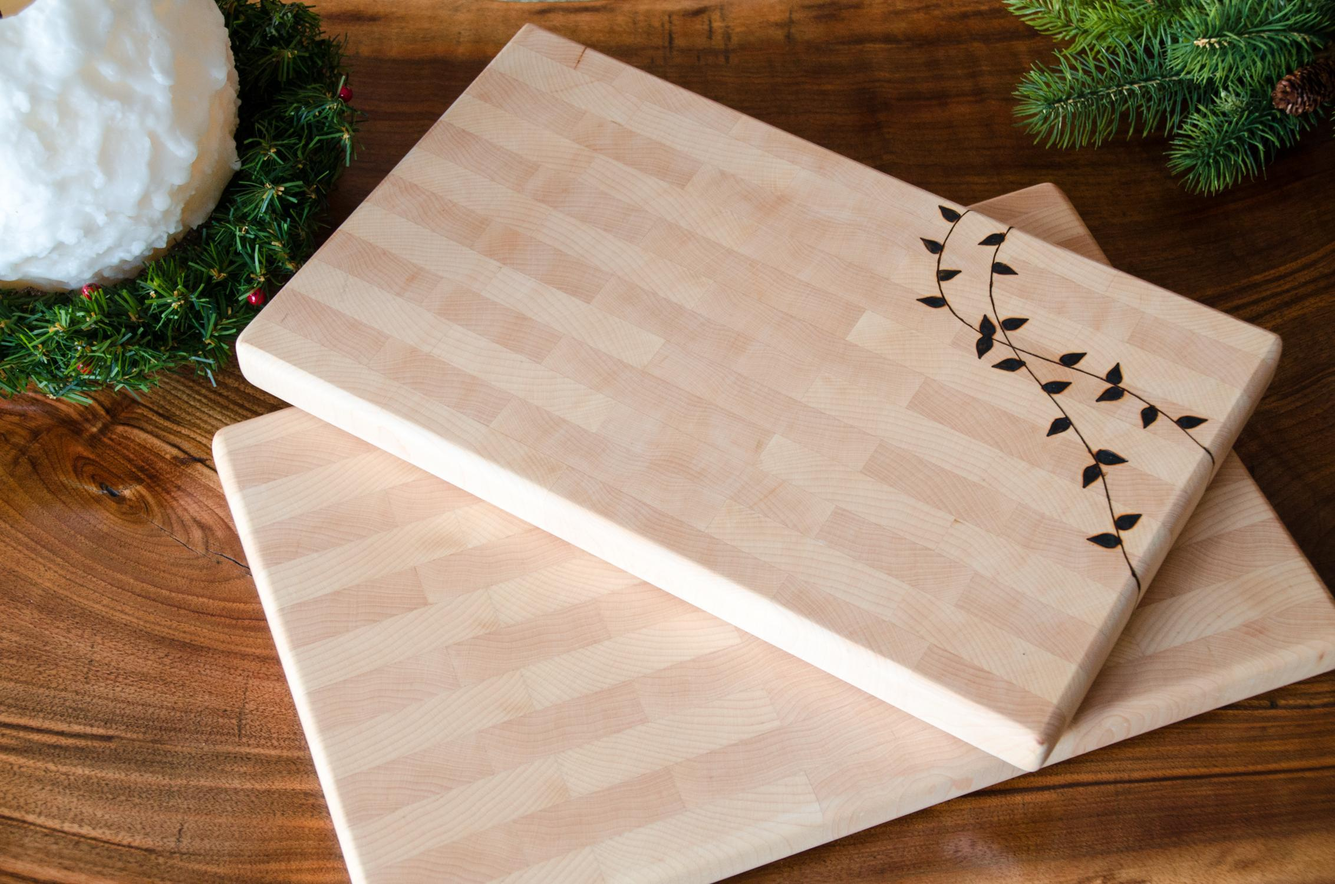gloved_hand: (232, 8, 1291, 779)
